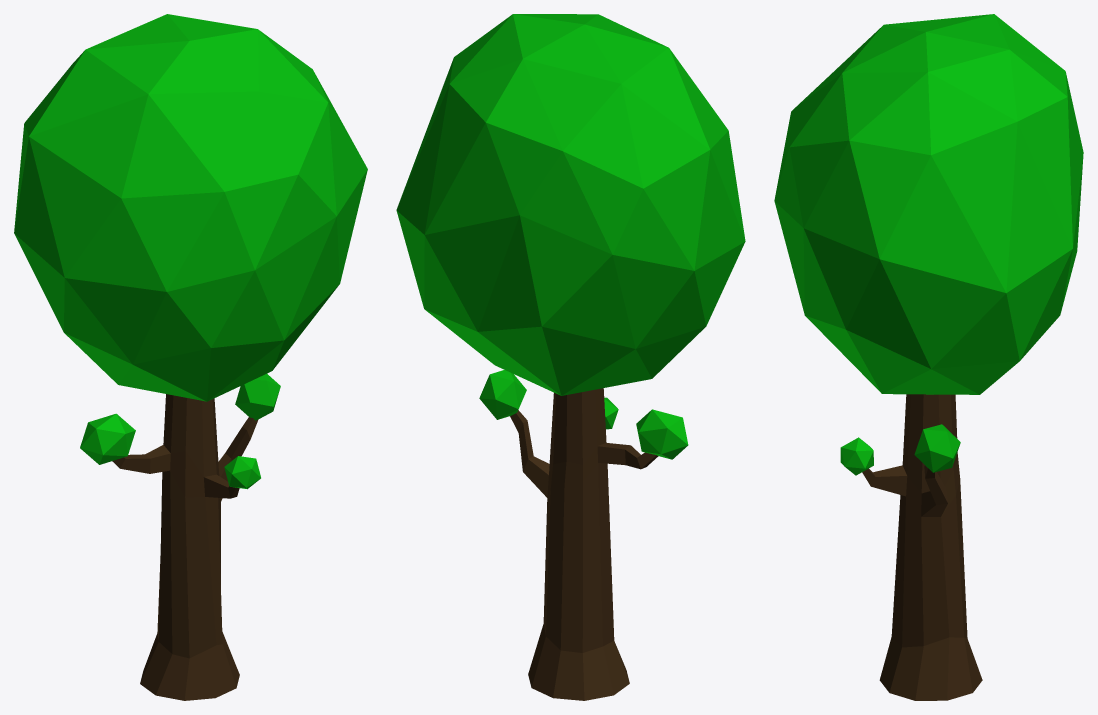
Rendered from tree1.glb.
The picture shows the model from 3 angles, left to right: view 1: azimuth 30°, elevation 25°; view 2: azimuth 150°, elevation 25°; view 3: azimuth 270°, elevation 25°; orthographic projection.
Parts seen in each view (by area): view 1: tree; view 2: tree; view 3: tree.
Boxes of the visible parts, box(x1,y1,x2,y2) form: tree: box(14, 14, 367, 700); tree: box(396, 14, 745, 700); tree: box(774, 14, 1083, 700).
Size of the model in its own units: 3.37 by 6.93 by 3.
